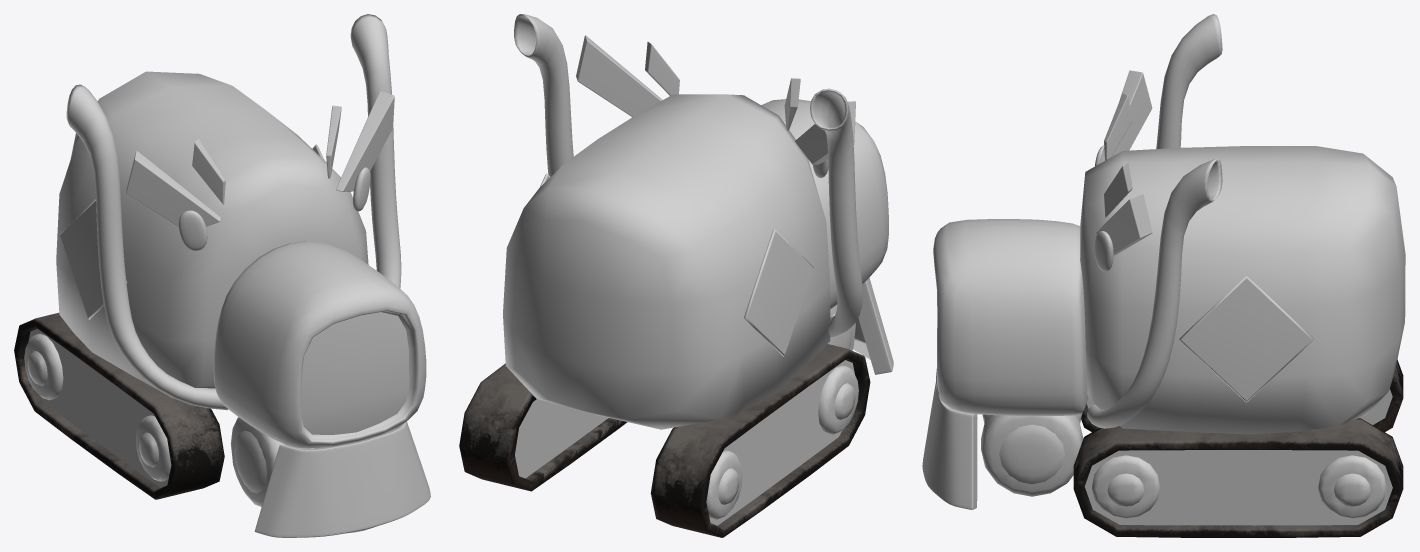
The model's file is E_Boot_R_20_low_final.fbx.
3 renders of one model, left to right at view 1: azimuth 30°, elevation 25°; view 2: azimuth 150°, elevation 25°; view 3: azimuth 270°, elevation 25°, orthographic. The views are drawn at different scales.
Visible parts, largest first — view 1: cuerpo, morro, trompas, cuchilla, REJA, cintas_traseras, base_llantas, ceja1_iz, placa, ceja1_der, tapacubo2, tapacubo1 (+6 smaller); view 2: cuerpo, cintas_traseras, trompas, base_llantas, morro, placa, ceja1_der, tapacubo1, cuchilla, tapacubo2, ceja1_iz, ceja2_der (+1 smaller); view 3: cuerpo, morro, base_llantas, cintas_traseras, trompas, placa, cuchilla, neumaticos_delanteros, tapacubo2, tapacubo1, tapacubo_delantero, ceja1_der (+4 smaller).
Part boxes in pixels (x1,y1,x2,y2): cuerpo: (56, 71, 368, 390); morro: (213, 241, 426, 448); trompas: (66, 14, 401, 410); cuchilla: (254, 421, 430, 537); REJA: (301, 312, 409, 434); cintas_traseras: (14, 312, 224, 499); base_llantas: (28, 328, 168, 487); ceja1_iz: (126, 150, 221, 226); placa: (60, 144, 323, 319); ceja1_der: (336, 91, 394, 191); tapacubo2: (24, 333, 63, 400); tapacubo1: (135, 415, 171, 481); cuerpo: (503, 94, 830, 429); cintas_traseras: (459, 344, 870, 537); trompas: (514, 14, 862, 337); base_llantas: (515, 360, 854, 525); morro: (761, 99, 888, 308); placa: (540, 173, 813, 356); ceja1_der: (576, 35, 662, 116); tapacubo1: (818, 365, 858, 434); cuchilla: (853, 278, 893, 374); tapacubo2: (706, 450, 742, 519); ceja1_iz: (795, 101, 855, 164); ceja2_der: (645, 41, 679, 95); cuerpo: (1080, 146, 1405, 434); morro: (933, 219, 1088, 415); base_llantas: (1084, 389, 1392, 525); cintas_traseras: (1073, 359, 1403, 537); trompas: (1087, 14, 1222, 428); placa: (1179, 275, 1314, 402); cuchilla: (922, 382, 977, 509); neumaticos_delanteros: (981, 412, 1083, 496); tapacubo2: (1318, 455, 1386, 518); tapacubo1: (1092, 455, 1160, 518); tapacubo_delantero: (999, 424, 1064, 484); ceja1_der: (1096, 193, 1152, 255).
Size of the model in its own units: 185 by 215 by 239.
